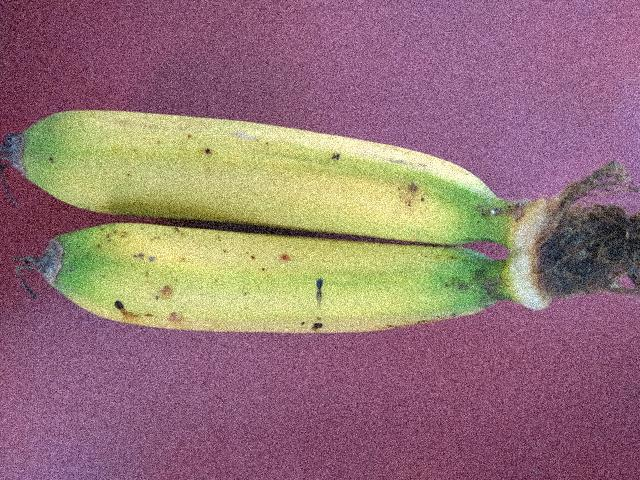freshripe: (24, 79, 491, 256)
ripe: (45, 208, 511, 353)
